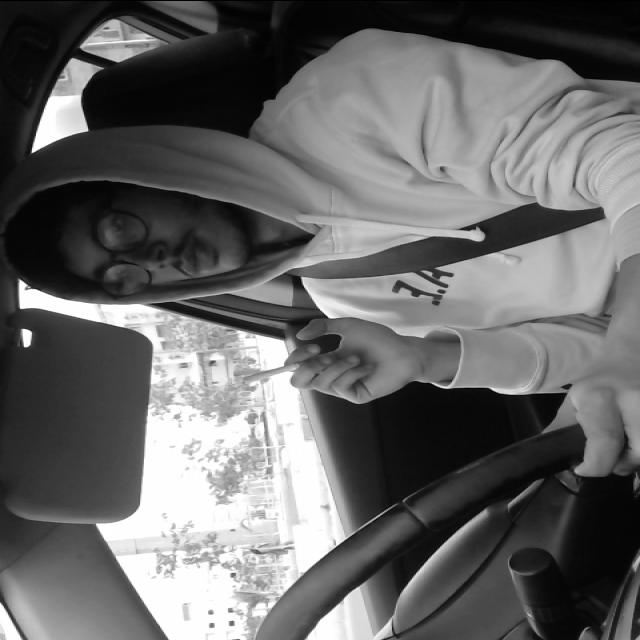smoking: (242, 357, 326, 385)
